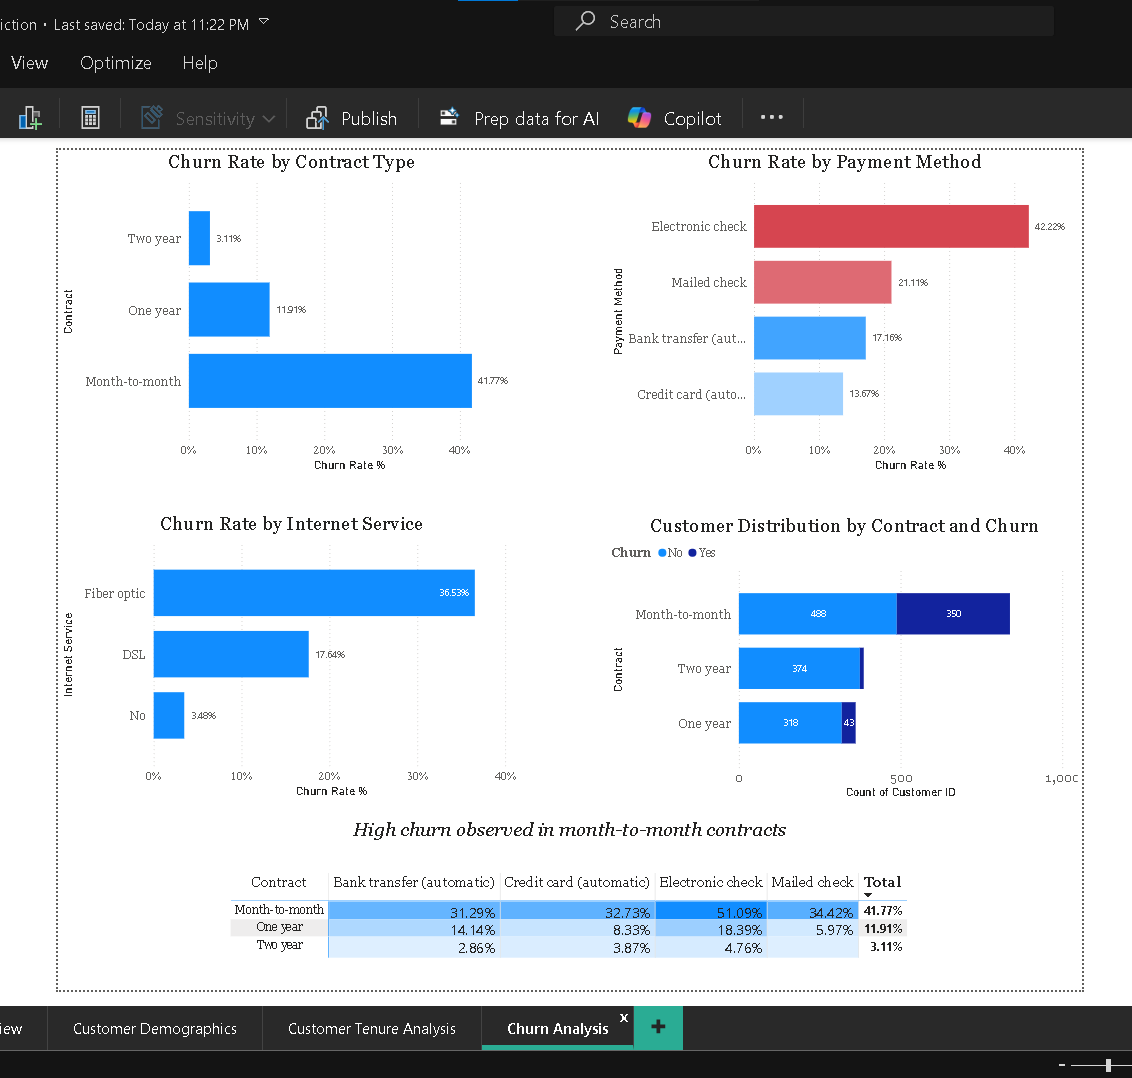

The dashboard page shown, as its layout file describes it:
{"tool":"powerbi","page":{"name":"Churn Analysis","canvas":[1280,1050],"ordinal":3},"visuals":[{"type":"clusteredBarChart","title":"Churn Rate by Contract Type","fields":{"Category":["Telco_Customer_Churn_Dataset.Contract"],"Y":["Telco_Customer_Churn_Dataset.Churn Rate %"]},"box":[0,0,584.1,406.8],"z":0},{"type":"clusteredBarChart","title":"Churn Rate by Payment Method","fields":{"Category":["Telco_Customer_Churn_Dataset.Payment Method"],"Y":["Telco_Customer_Churn_Dataset.Churn Rate %"]},"box":[688.2,0,592.2,406.9],"z":1000},{"type":"clusteredBarChart","title":"Churn Rate by Internet Service","fields":{"Category":["Telco_Customer_Churn_Dataset.Internet Service"],"Y":["Telco_Customer_Churn_Dataset.Churn Rate %"]},"box":[0,453.8,584.6,361.5],"z":2000},{"type":"barChart","title":"Customer Distribution by Contract and Churn","fields":{"Category":["Telco_Customer_Churn_Dataset.Contract"],"Series":["Telco_Customer_Churn_Dataset.Churn"],"Y":["CountNonNull(Telco_Customer_Churn_Dataset.Customer ID)"]},"box":[688.2,454.9,592.2,360.8],"z":3000},{"type":"pivotTable","fields":{"Rows":["Telco_Customer_Churn_Dataset.Contract"],"Columns":["Telco_Customer_Churn_Dataset.Payment Method"],"Values":["Telco_Customer_Churn_Dataset.Churn Rate %"]},"box":[210.3,898.3,858.6,151.7],"z":4000},{"type":"textbox","box":[0,829.3,1279.3,46.6],"z":5000}]}

Visuals, with their boxes on the page's 1280x1050 design canvas (x1, y1, x2, y2). These are canvas units, not pixel positions in the 1132x1078 screenshot, which may show the page scaled, cropped or inside an application window:
"Churn Rate by Contract Type" clusteredBarChart: l=0, t=0, r=584, b=407
"Churn Rate by Payment Method" clusteredBarChart: l=688, t=0, r=1280, b=407
"Churn Rate by Internet Service" clusteredBarChart: l=0, t=454, r=585, b=815
"Customer Distribution by Contract and Churn" barChart: l=688, t=455, r=1280, b=816
pivotTable - Telco_Customer_Churn_Dataset.Contract x Telco_Customer_Churn_Dataset.Payment Method: l=210, t=898, r=1069, b=1050
textbox: l=0, t=829, r=1279, b=876
